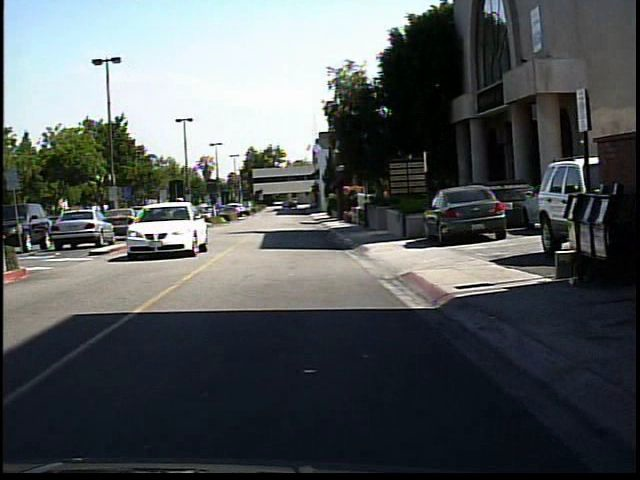person: (168, 192, 194, 249)
